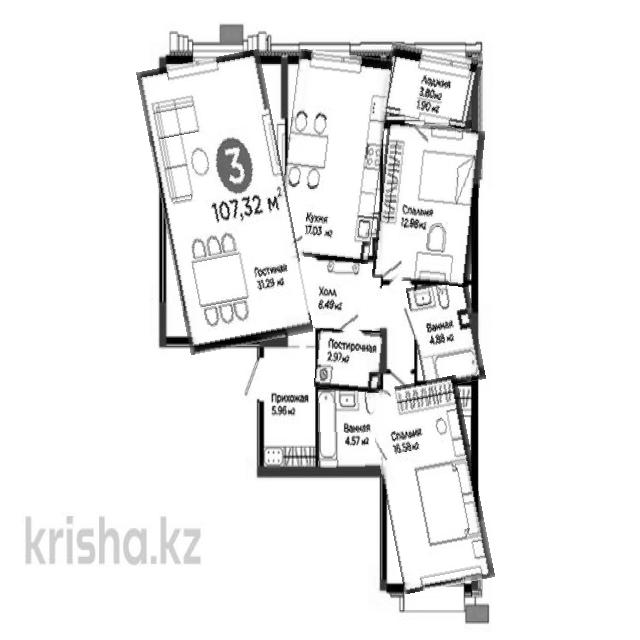balcony: (381, 46, 480, 126)
bathroom: (411, 280, 482, 388), (316, 390, 382, 472)
hallway: (260, 343, 318, 469), (286, 257, 383, 330)
kitchen: (281, 51, 387, 262)
living_room: (149, 53, 300, 351), (376, 379, 486, 591), (376, 124, 482, 285)
other: (316, 330, 384, 391)
